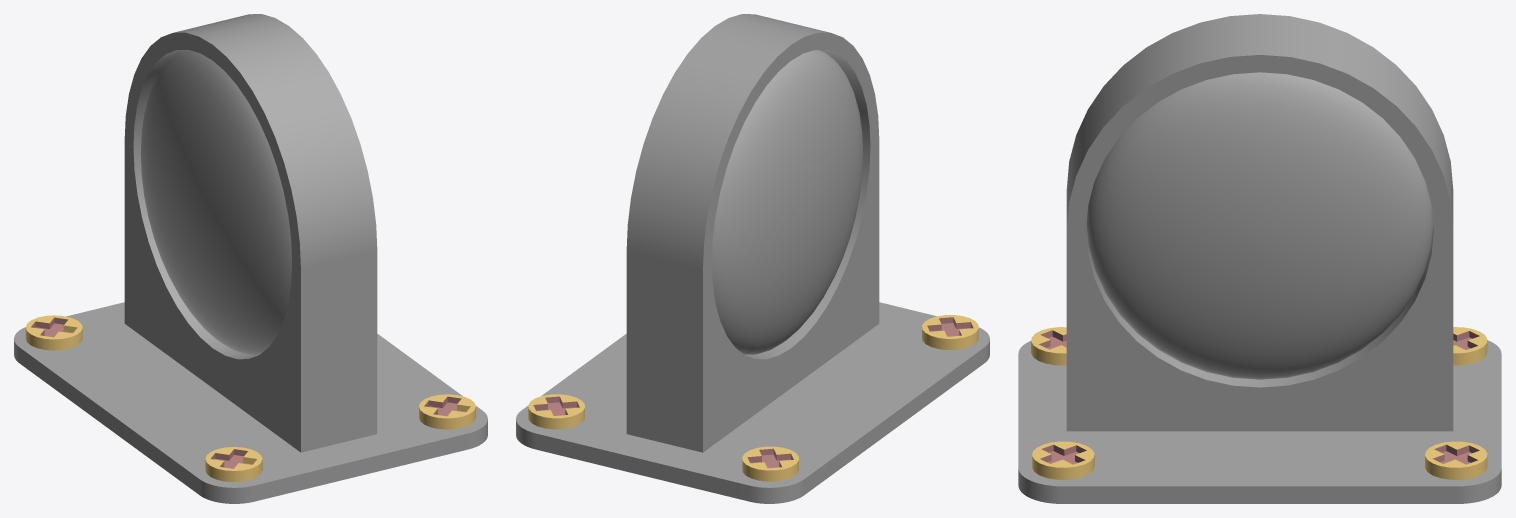
The model's file is LockColorSwitch.fbx.
The picture shows the model from 3 angles, left to right: view 1: azimuth 30°, elevation 25°; view 2: azimuth 150°, elevation 25°; view 3: azimuth 270°, elevation 25°; orthographic projection. The views are drawn at different scales.
Visible parts, largest first — view 1: LockColorSwitchBody, LockColorSwitchSphere, Screw9, Screw10, Screw7; view 2: LockColorSwitchBody, LockColorSwitchSphere, Screw9, Screw8, Screw10; view 3: LockColorSwitchBody, LockColorSwitchSphere, Screw8, Screw7, Screw10, Screw9.
Part boxes in pixels (x1,y1,x2,y2): LockColorSwitchBody: [14, 14, 487, 503]; LockColorSwitchSphere: [140, 50, 291, 355]; Screw9: [25, 315, 82, 350]; Screw10: [205, 447, 262, 481]; Screw7: [419, 394, 475, 429]; LockColorSwitchBody: [516, 14, 989, 503]; LockColorSwitchSphere: [712, 50, 863, 355]; Screw9: [742, 446, 798, 481]; Screw8: [528, 394, 584, 429]; Screw10: [922, 315, 978, 349]; LockColorSwitchBody: [1018, 14, 1501, 503]; LockColorSwitchSphere: [1086, 72, 1433, 379]; Screw8: [1425, 441, 1487, 479]; Screw7: [1032, 441, 1094, 479]; Screw10: [1031, 327, 1066, 365]; Screw9: [1453, 327, 1487, 365].
Size of the model in its own units: 0.7401 by 0.9 by 1.
